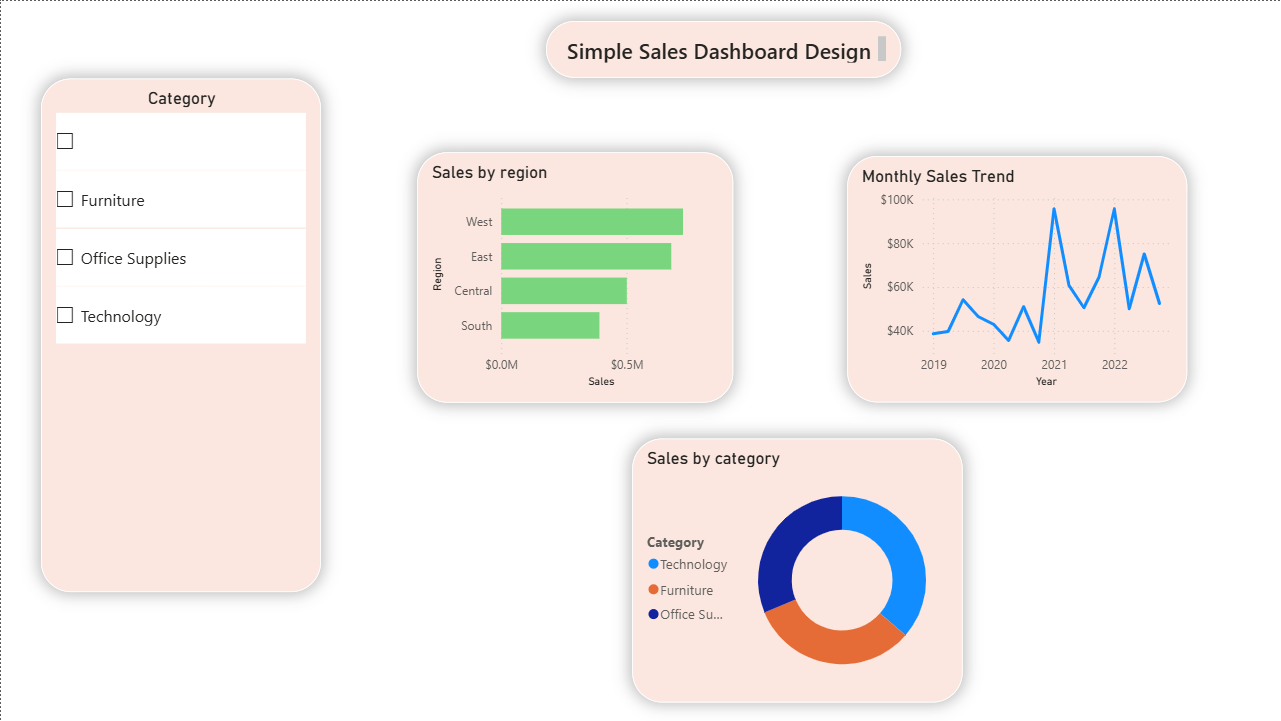

Layout of this report page (visuals, bound fields, positions):
{"tool":"powerbi","page":{"name":"Page 1","canvas":[1280,720],"ordinal":0},"visuals":[{"type":"lineChart","title":"Monthly Sales Trend","fields":{"Category":["superstore_dataset (2).order_date.Variation.Date Hierarchy.Year","superstore_dataset (2).order_date.Variation.Date Hierarchy.Quarter","superstore_dataset (2).order_date.Variation.Date Hierarchy.Month","superstore_dataset (2).order_date.Variation.Date Hierarchy.Day"],"Y":["Sum(superstore_dataset (2). sales )"]},"box":[846.2,155,340,246.2],"z":0},{"type":"clusteredBarChart","title":"Sales  by region","fields":{"Category":["superstore_dataset (2).region"],"Y":["Sum(superstore_dataset (2). sales )"]},"box":[416.2,151.2,316.2,250],"z":1},{"type":"donutChart","title":"Sales  by category","fields":{"Category":["superstore_dataset (2).category"],"Y":["Sum(superstore_dataset (2). sales )"]},"box":[631.2,437.5,330,263.8],"z":2},{"type":"listSlicer","title":"Category","fields":{"Values":["superstore_dataset (2).category"]},"box":[40,77.5,280,513.8],"z":3},{"type":"textbox","box":[545,20,355,57],"z":5}]}

Visuals, with their boxes in screenshot pixels (x1, y1, x2, y2), scaled from the page's 1280x720 canvas onto the 1281x721 screenshot:
"Monthly Sales Trend" lineChart: [x1=847, y1=155, x2=1187, y2=402]
"Sales  by region" clusteredBarChart: [x1=417, y1=151, x2=733, y2=402]
"Sales  by category" donutChart: [x1=632, y1=438, x2=962, y2=702]
"Category" listSlicer: [x1=40, y1=78, x2=320, y2=592]
textbox: [x1=545, y1=20, x2=901, y2=77]
